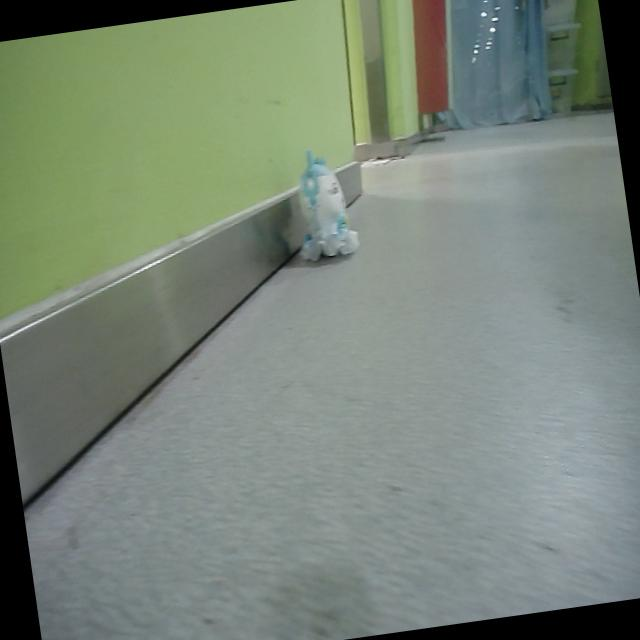xiaoba: (288, 137, 364, 261)
